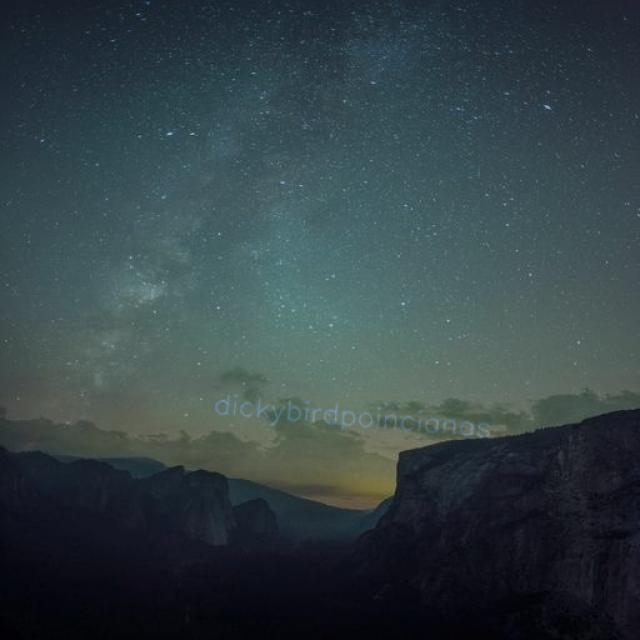watermark: (205, 390, 511, 442)
